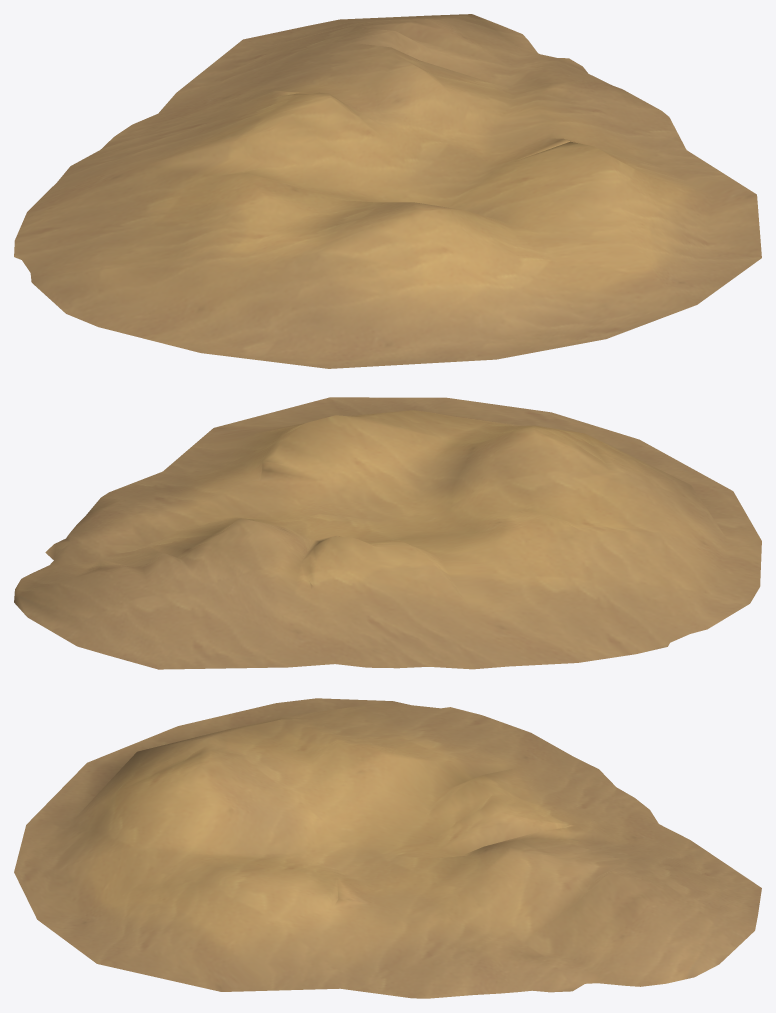
File: Area_05_10.fbx
The picture shows the model from 3 angles, top to bottom: view 1: azimuth 30°, elevation 25°; view 2: azimuth 150°, elevation 25°; view 3: azimuth 270°, elevation 25°; orthographic projection. The views are drawn at different scales.
Visible parts, largest first — view 1: Area_05_10; view 2: Area_05_10; view 3: Area_05_10.
Part boxes in pixels (<box>): Area_05_10: <box>14,14,761,368</box>; Area_05_10: <box>14,397,761,669</box>; Area_05_10: <box>14,698,761,998</box>.
Bounding box in the file's own units: 5349 × 574 × 5629.
1 material, 1 textured.
